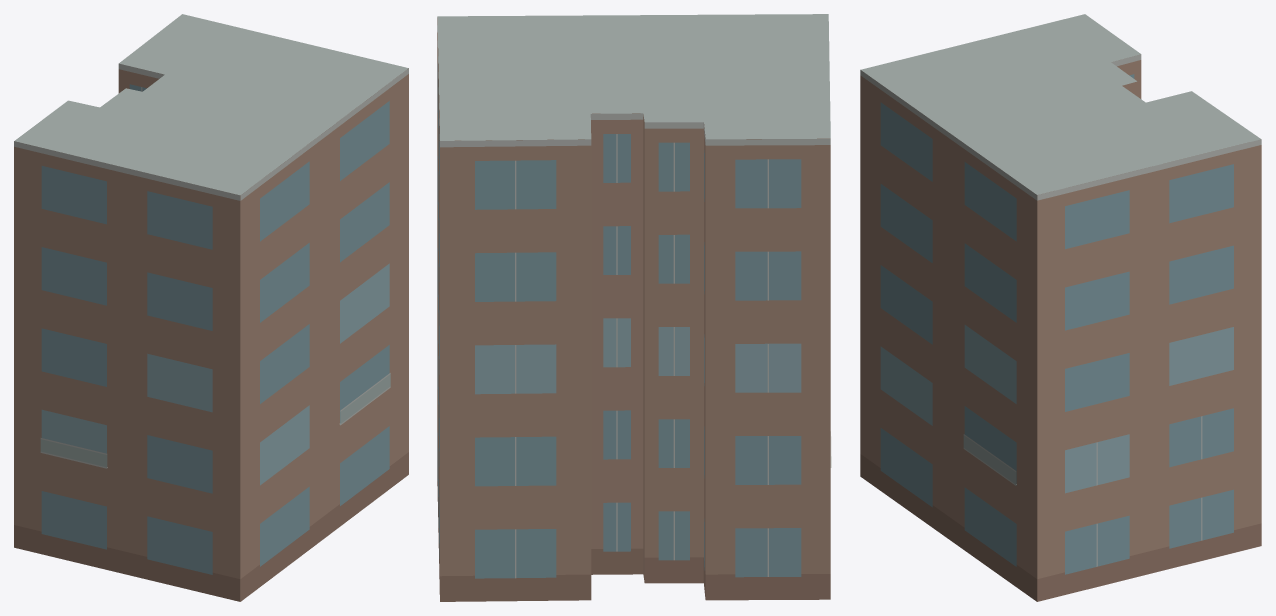
Rendered from survey-upis-32953955.glb.
The picture shows the model from 3 angles, left to right: view 1: azimuth 30°, elevation 25°; view 2: azimuth 150°, elevation 25°; view 3: azimuth 270°, elevation 25°; orthographic projection. The views are drawn at different scales.
Visible parts, largest first — view 1: survey-upis-32953955.tmp; view 2: survey-upis-32953955.tmp; view 3: survey-upis-32953955.tmp.
Part boxes in pixels (left/top/right/bottom): survey-upis-32953955.tmp: left=14, top=14, right=408, bottom=601; survey-upis-32953955.tmp: left=437, top=14, right=831, bottom=601; survey-upis-32953955.tmp: left=860, top=14, right=1261, bottom=601.
Bounding box in the file's own units: 16.91 × 17.7 × 15.82.
